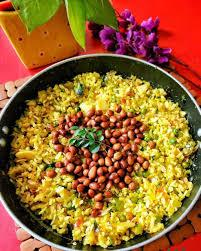poha: (8, 66, 201, 250)
